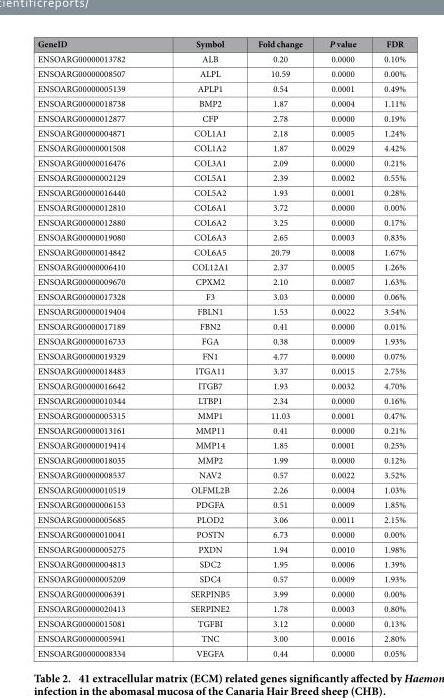table: (36, 37, 405, 658)
table column: (36, 37, 157, 658), (157, 37, 243, 658), (243, 37, 315, 658), (315, 37, 369, 658), (369, 37, 405, 658)
table column header: (36, 37, 405, 50)
table row: (36, 50, 405, 65), (36, 65, 405, 80), (36, 80, 405, 95), (36, 95, 405, 110), (36, 110, 405, 125), (36, 125, 405, 140), (36, 154, 405, 169), (36, 169, 405, 184), (36, 184, 405, 199), (36, 199, 405, 214), (36, 214, 405, 229), (36, 229, 405, 244), (36, 244, 405, 259), (36, 273, 405, 288), (36, 288, 405, 303), (36, 303, 405, 318), (36, 318, 405, 333), (36, 333, 405, 348), (36, 348, 405, 363), (36, 377, 405, 392), (36, 392, 405, 407), (36, 407, 405, 422), (36, 422, 405, 437), (36, 437, 405, 452), (36, 452, 405, 467), (36, 481, 405, 496), (36, 496, 405, 511), (36, 511, 405, 526), (36, 526, 405, 541), (36, 541, 405, 556), (36, 556, 405, 571), (36, 585, 405, 600), (36, 600, 405, 615), (36, 615, 405, 630), (36, 630, 405, 645), (36, 140, 405, 154), (36, 259, 405, 273), (36, 363, 405, 377), (36, 467, 405, 481), (36, 571, 405, 585), (36, 37, 405, 50), (36, 645, 405, 658)
